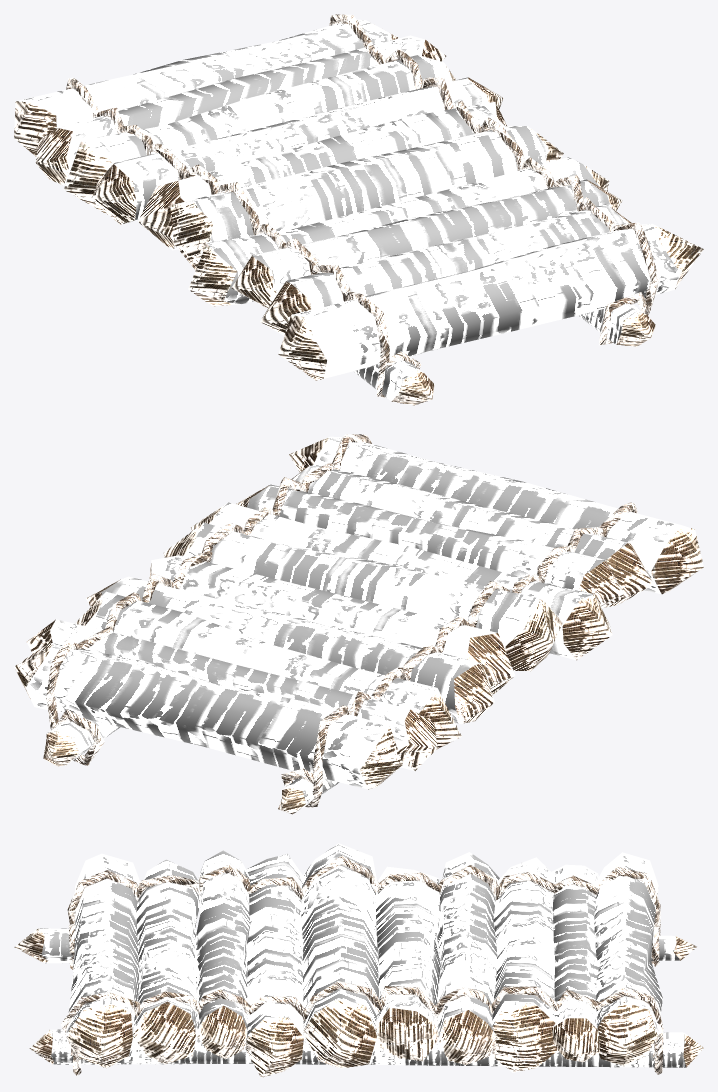
Rendered from Raft.FBX.
3 renders of one model, top to bottom at view 1: azimuth 30°, elevation 25°; view 2: azimuth 150°, elevation 25°; view 3: azimuth 270°, elevation 25°, orthographic. The views are drawn at different scales.
Visible parts, largest first — view 1: Raft; view 2: Raft; view 3: Raft.
Boxes of the visible parts, <box> form: Raft: <box>14,14,703,405</box>; Raft: <box>14,434,703,814</box>; Raft: <box>14,843,703,1077</box>.
Size of the model in its own units: 14.2 by 3.73 by 21.9.
